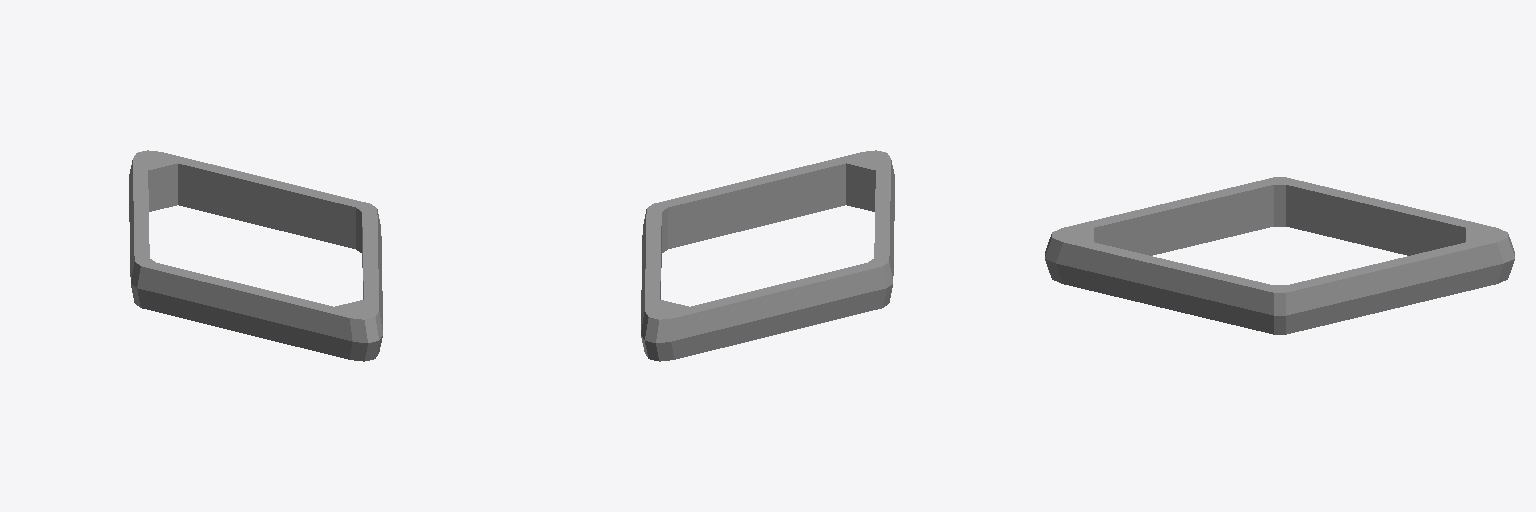
Rendered from 9ball_rack.obj.
3 views of the same model, side by side, from view 1: azimuth 30°, elevation 25°; view 2: azimuth 150°, elevation 25°; view 3: azimuth 270°, elevation 25° (orthographic).
Visible parts, largest first — view 1: rack_Sphere.008; view 2: rack_Sphere.008; view 3: rack_Sphere.008.
Boxes of the visible parts, box(x1,y1,x2,y2) form: rack_Sphere.008: box(129, 150, 382, 361); rack_Sphere.008: box(641, 150, 894, 361); rack_Sphere.008: box(1045, 177, 1514, 334).
Bounding box in the file's own units: 0.4067 × 0.0667 × 0.6789.